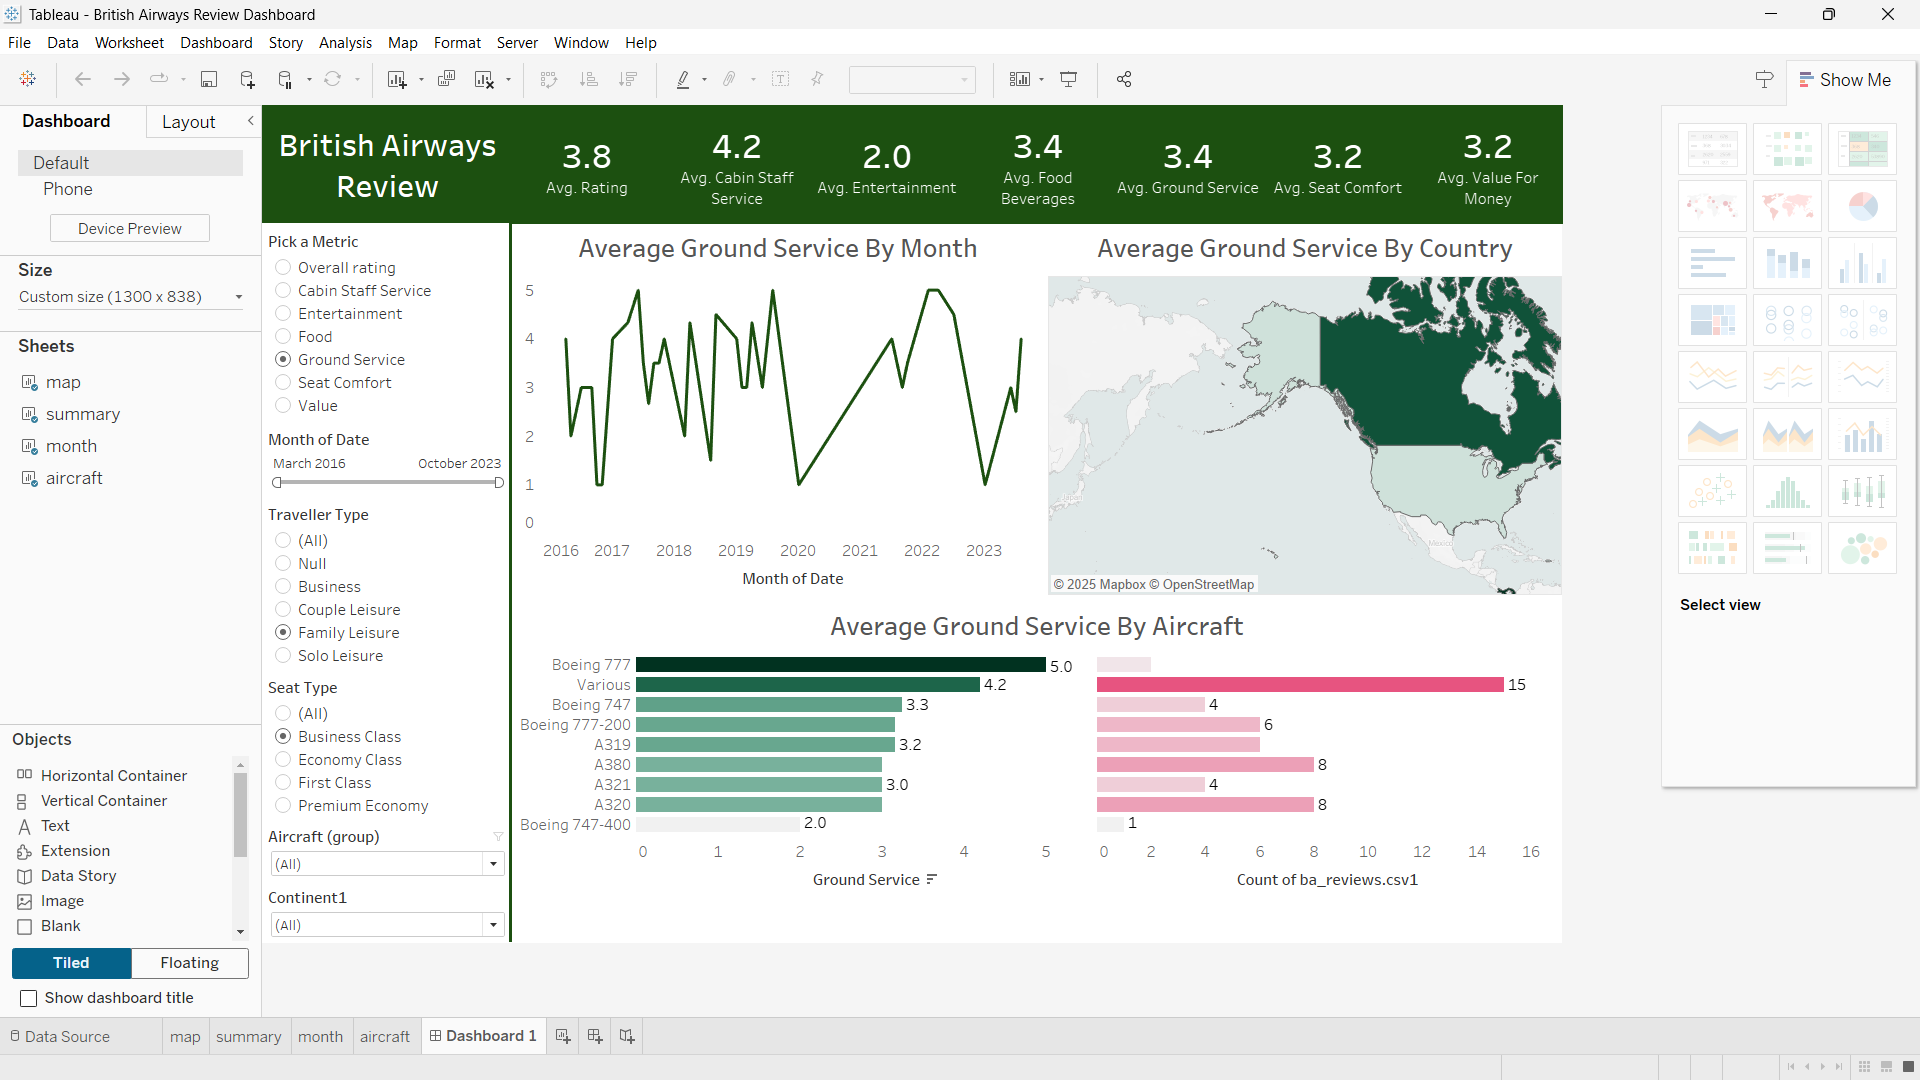

The page's visual inventory and layout, read from the dashboard file:
{"tool":"tableau","page":{"name":"Dashboard 1","canvas":[1300,838],"ordinal":0},"visuals":[{"type":"text","box":[0,0,251,118.1]},{"type":"worksheet","title":"summary","mark":"Automatic","box":[250.2,0,1050.8,118.5]},{"type":"blank","box":[247,118,3,719]},{"type":"worksheet","title":"month","mark":"Automatic","rows":["Calculation_770959974868676608"],"cols":["date"],"box":[249,121,534,370]},{"type":"worksheet","title":"map","mark":"Automatic","box":[786,121,514,369]},{"type":"parameter","param":"[Parameters].[Parameter 1]","box":[2.2,122.1,248.1,198]},{"type":"filter","title":"map","param":"[federated.1v3n84l115hh001fog1rb1c1kfyj].[tmn:date:qk]","box":[2.2,320.1,248.1,75]},{"type":"filter","title":"map","param":"[federated.1v3n84l115hh001fog1rb1c1kfyj].[none:traveller_type:nk]","box":[2.2,395.1,248.1,173]},{"type":"worksheet","title":"aircraft","mark":"Bar","cols":["Calculation_770959974868676608","ba_reviews.csv_5E66C5BAE68148D99E1E26F6EEACF9A7"],"box":[254,499,1043,335]},{"type":"filter","title":"map","param":"[federated.1v3n84l115hh001fog1rb1c1kfyj].[none:seat_type:nk]","box":[2.2,568.1,248.1,149.1]},{"type":"filter","title":"map","param":"[federated.1v3n84l115hh001fog1rb1c1kfyj].[Aircraft (group)]","box":[2.2,717.2,248.1,61]},{"type":"filter","title":"map","param":"[federated.1v3n84l115hh001fog1rb1c1kfyj].[none:Continent:nk]","box":[2.2,778.2,248.1,61]}]}

Visuals, with their boxes on the page's 1300x838 design canvas (x1, y1, x2, y2). These are canvas units, not pixel positions in the 1920x1080 screenshot, which may show the page scaled, cropped or inside an application window:
text: 0, 0, 251, 118
"summary" worksheet: 250, 0, 1301, 118
blank: 247, 118, 250, 837
"month" worksheet: 249, 121, 783, 491
"map" worksheet: 786, 121, 1300, 490
parameter: 2, 122, 250, 320
"map" filter: 2, 320, 250, 395
"map" filter: 2, 395, 250, 568
"aircraft" worksheet (Bar marks): 254, 499, 1297, 834
"map" filter: 2, 568, 250, 717
"map" filter: 2, 717, 250, 778
"map" filter: 2, 778, 250, 839
